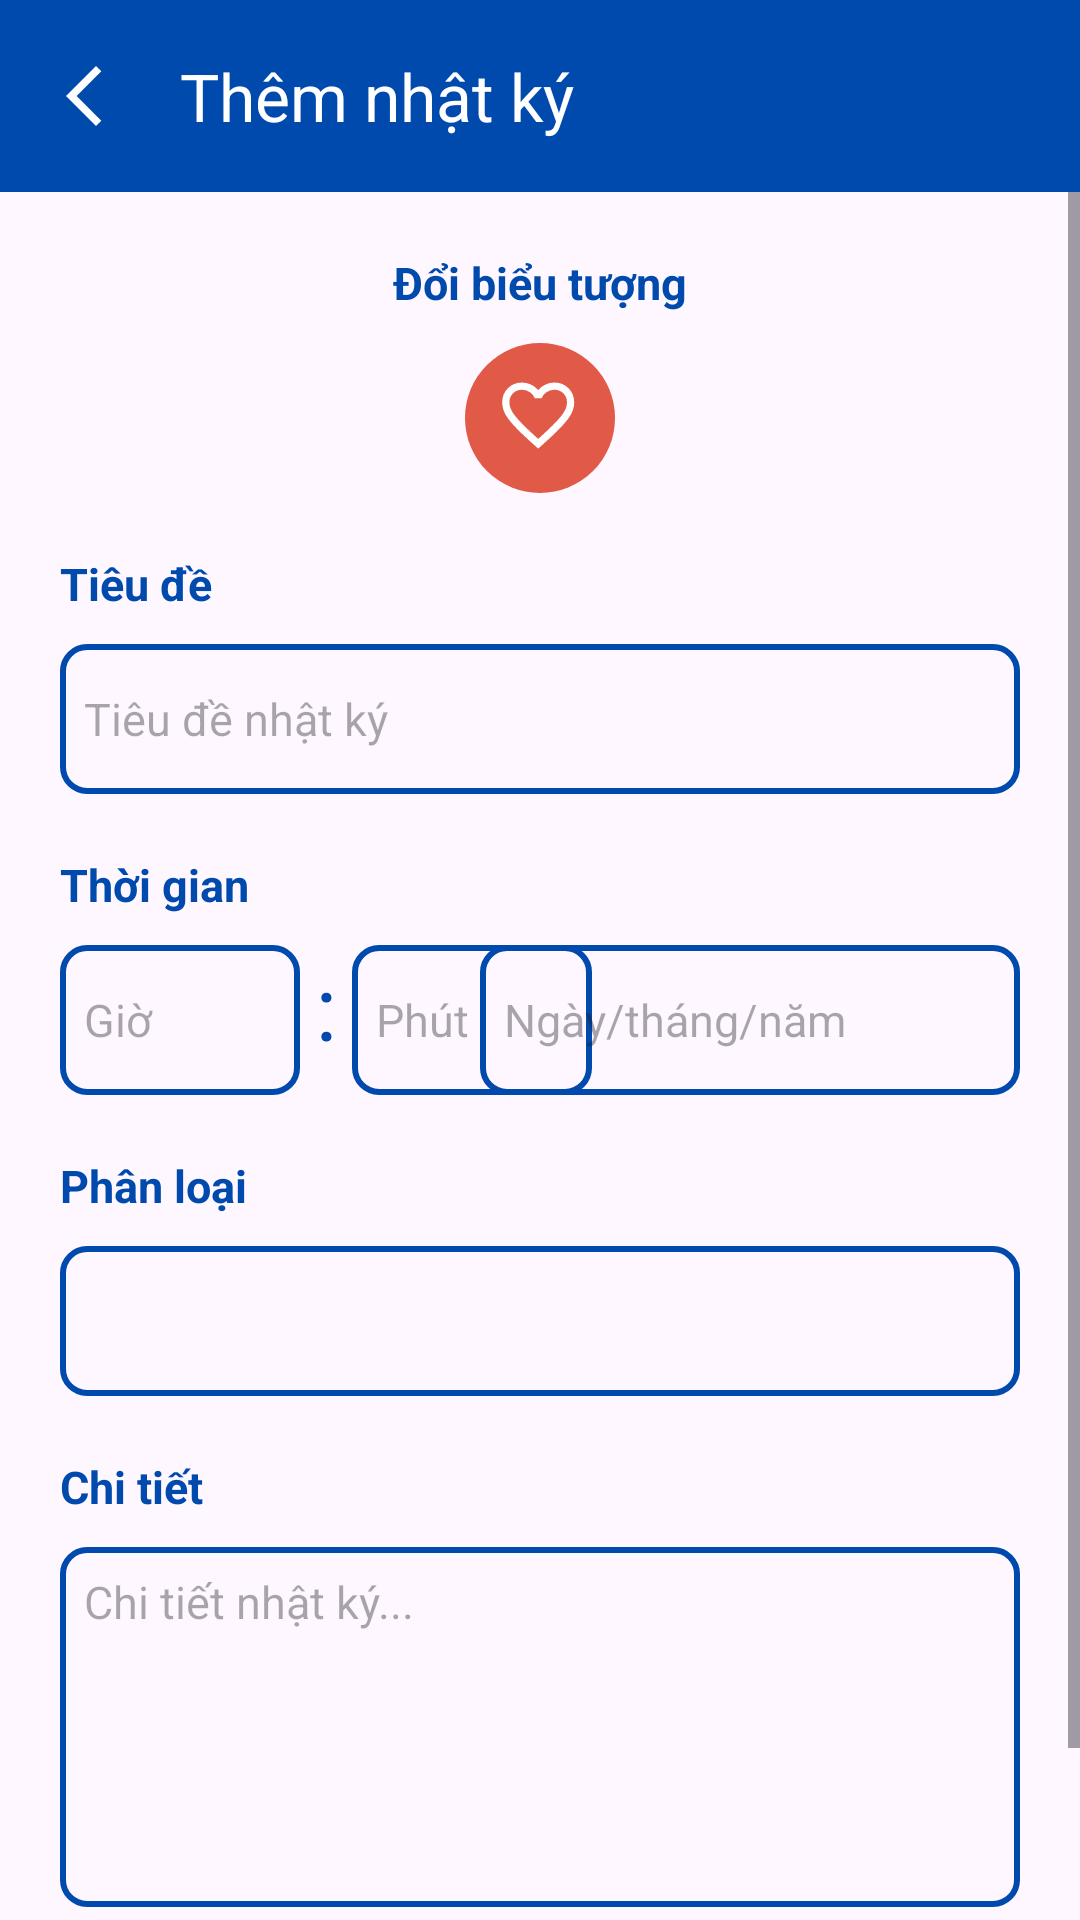

Named icons in this screenshot (1080x1920) and their bounding boxes, (left=x1, top=y1, right=x2, bottom=y2):
favorite: (left=465, top=343, right=615, bottom=493)
